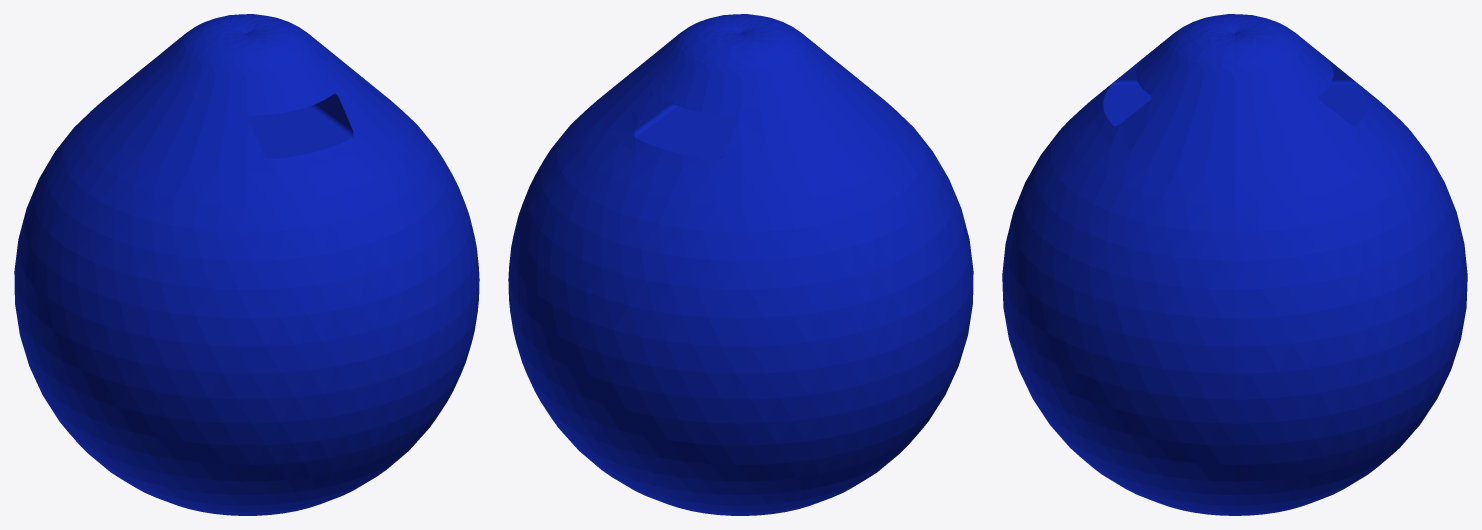
Rendered from blue_ball.obj.
The picture shows the model from 3 angles, left to right: view 1: azimuth 30°, elevation 25°; view 2: azimuth 150°, elevation 25°; view 3: azimuth 270°, elevation 25°; orthographic projection.
Visible parts, largest first — view 1: ball_buoy; view 2: ball_buoy; view 3: ball_buoy.
Boxes of the visible parts, bbox=[...] form: ball_buoy: bbox=[14, 14, 479, 515]; ball_buoy: bbox=[508, 14, 973, 515]; ball_buoy: bbox=[1002, 14, 1467, 515].
Bounding box in the file's own units: 11.76 × 12.98 × 11.77.
